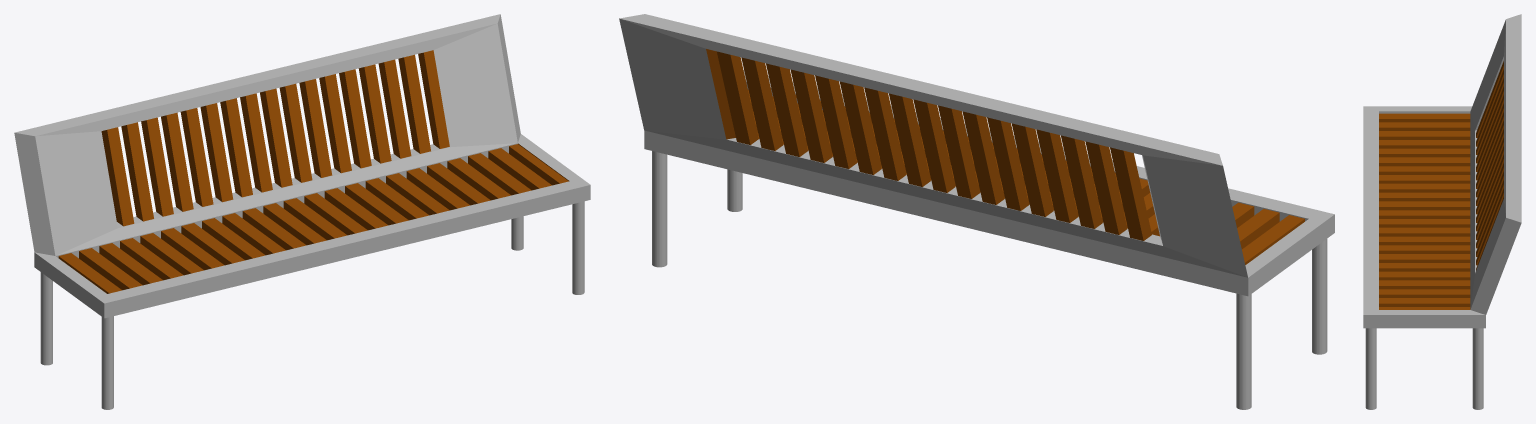
Rendered from Bench.fbx.
The picture shows the model from 3 angles, left to right: view 1: azimuth 30°, elevation 25°; view 2: azimuth 150°, elevation 25°; view 3: azimuth 270°, elevation 25°; orthographic projection. The views are drawn at different scales.
Parts seen in each view (by area): view 1: Cube; view 2: Cube; view 3: Cube.
Boxes of the visible parts, x1,y1,x2,y2 form: Cube: (14,14,590,409); Cube: (619,14,1334,409); Cube: (1363,14,1521,409).
Bounding box in the file's own units: 804 × 338 × 258.
